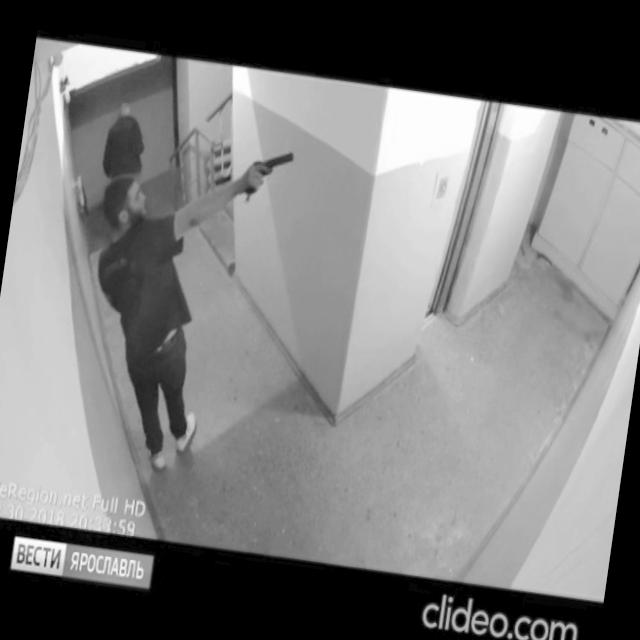gun: (242, 144, 298, 206)
person: (92, 98, 156, 236)
person with a gun: (64, 124, 299, 488)
